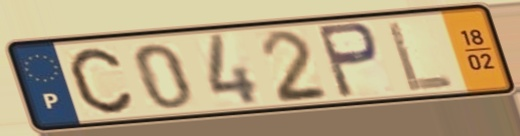0: (129, 40, 200, 111)
2: (259, 27, 332, 105)
4: (203, 31, 264, 108)
C: (66, 45, 137, 116)
L: (383, 18, 458, 94)
P: (312, 20, 383, 100)
